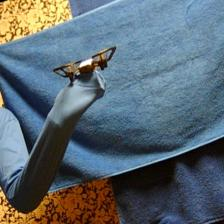drone: (52, 45, 115, 82)
